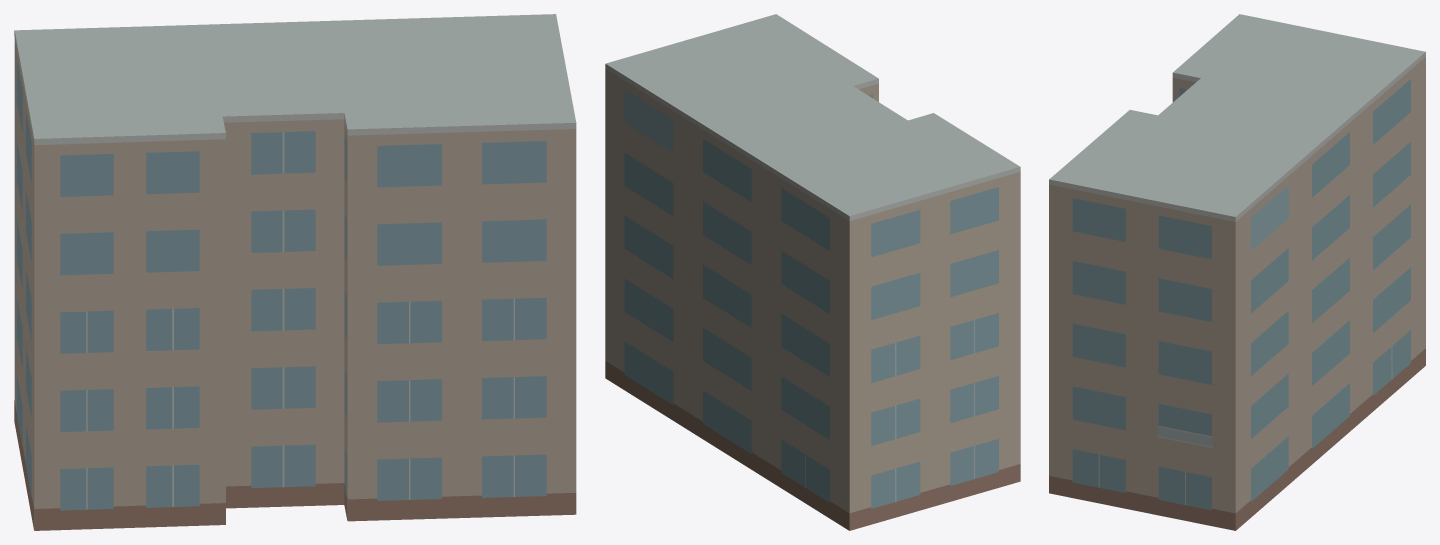
The model's file is survey-upis-32946596.glb.
3 renders of one model, left to right at view 1: azimuth 30°, elevation 25°; view 2: azimuth 150°, elevation 25°; view 3: azimuth 270°, elevation 25°, orthographic. The views are drawn at different scales.
Parts seen in each view (by area): view 1: survey-upis-32946596.tmp; view 2: survey-upis-32946596.tmp; view 3: survey-upis-32946596.tmp.
Part boxes in pixels (x1=…): survey-upis-32946596.tmp: x1=14, y1=14, x2=576, y2=530; survey-upis-32946596.tmp: x1=605, y1=14, x2=1020, y2=530; survey-upis-32946596.tmp: x1=1049, y1=14, x2=1425, y2=530.
Bounding box in the file's own units: 21.37 × 15.4 × 16.76.
